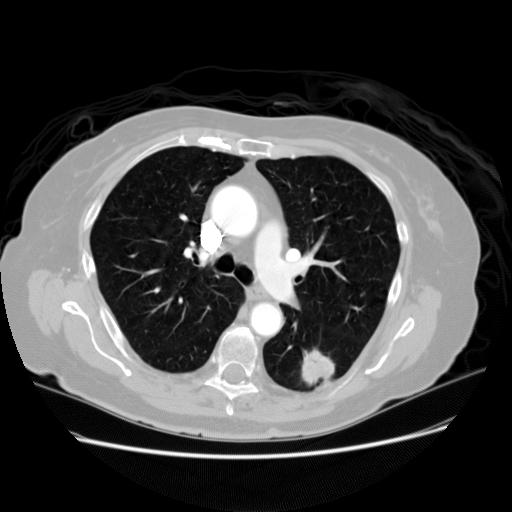nodule: (298, 348, 336, 386)
